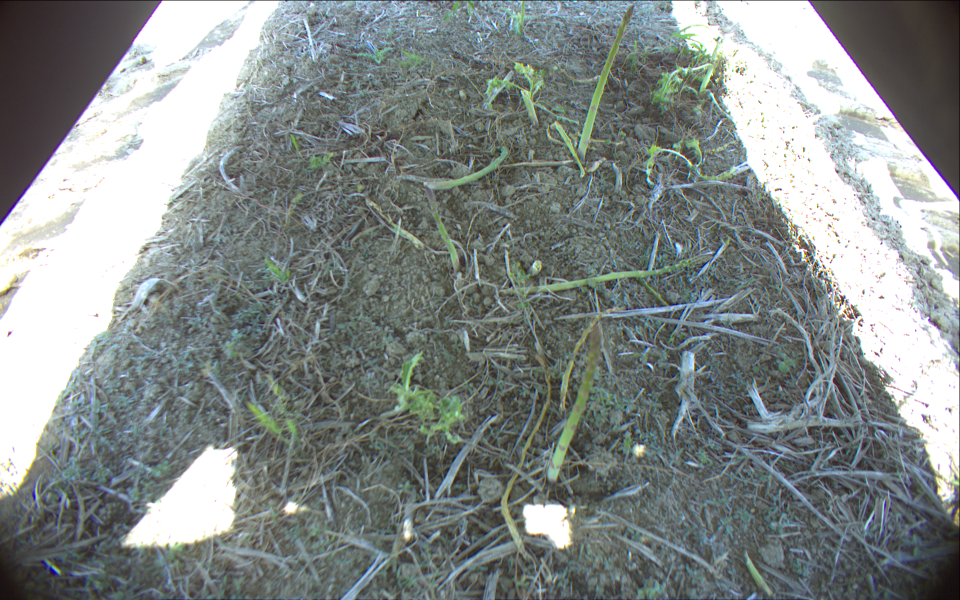aspa: (499, 351, 553, 564), (575, 4, 636, 163), (497, 250, 711, 295), (551, 329, 603, 479), (558, 304, 624, 416), (426, 145, 510, 190), (425, 185, 460, 274), (365, 199, 424, 249), (555, 122, 584, 180), (745, 551, 775, 597), (638, 279, 673, 312), (521, 89, 538, 130), (526, 259, 547, 279), (520, 1, 528, 34)
